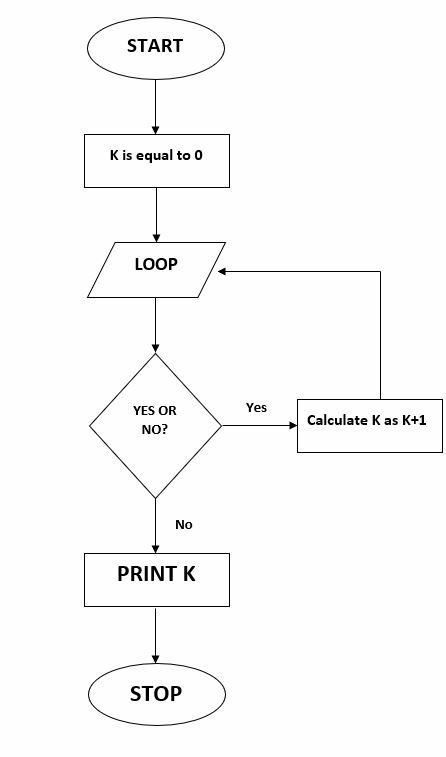arrow: (212, 263, 385, 396), (220, 419, 297, 433), (150, 189, 164, 242), (149, 495, 162, 551), (150, 298, 162, 354), (150, 80, 162, 135), (150, 607, 161, 665)
data: (85, 238, 226, 303)
decision: (90, 356, 222, 500)
process: (80, 130, 235, 194), (81, 549, 235, 613), (293, 395, 446, 458)
terminator: (84, 13, 228, 82), (83, 661, 229, 729)
text: (304, 411, 429, 430), (112, 560, 195, 588), (104, 145, 206, 166), (131, 400, 177, 436), (124, 34, 183, 59), (127, 683, 183, 704), (129, 252, 180, 272), (238, 398, 272, 415), (173, 513, 195, 534)
